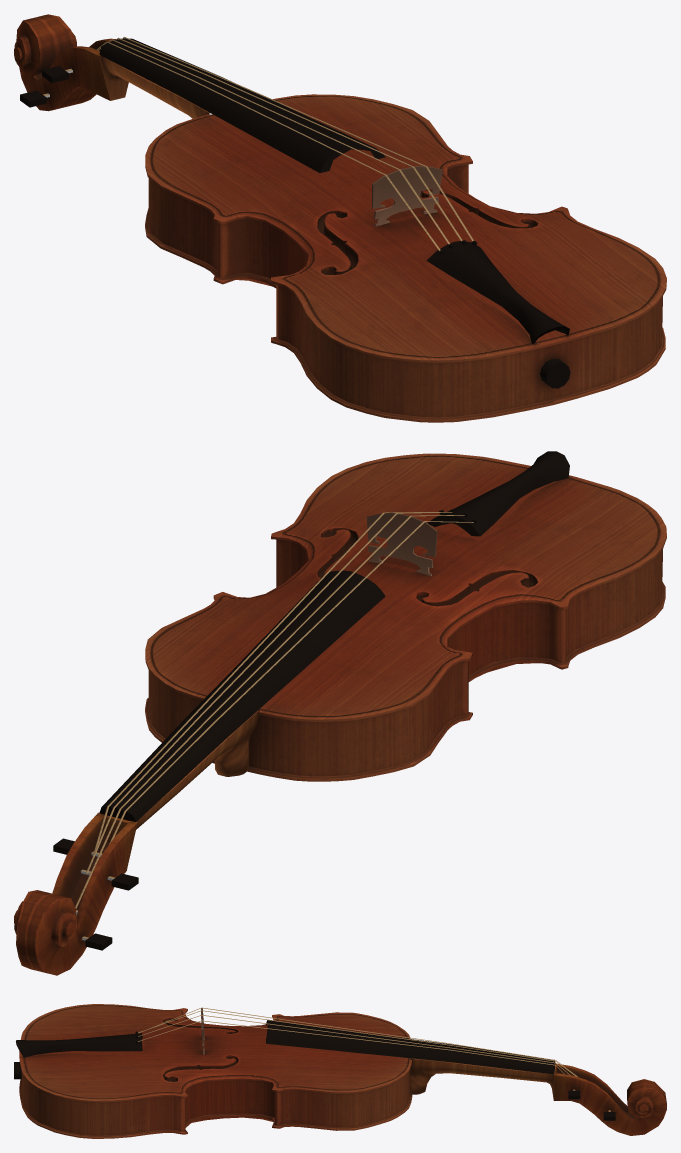
Rendered from EN_P_Violin.fbx.
3 renders of one model, top to bottom at view 1: azimuth 30°, elevation 25°; view 2: azimuth 150°, elevation 25°; view 3: azimuth 270°, elevation 25°, orthographic. The views are drawn at different scales.
Visible parts, largest first — view 1: En_P_violin; view 2: En_P_violin; view 3: En_P_violin.
Boxes of the visible parts, bbox=[...] form: En_P_violin: bbox=[14, 14, 666, 422]; En_P_violin: bbox=[14, 451, 666, 975]; En_P_violin: bbox=[14, 1004, 666, 1138].
Size of the model in its own units: 20.85 by 11.98 by 59.36.
